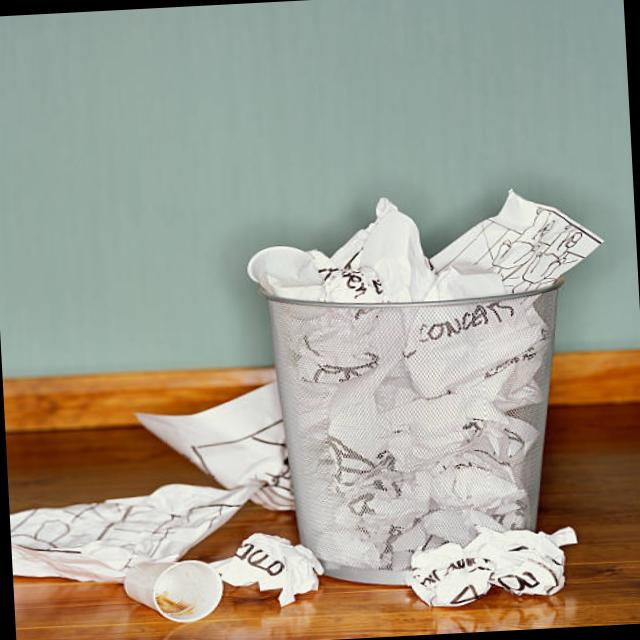electronic: (8, 476, 264, 588), (130, 379, 294, 519), (242, 194, 438, 310), (424, 183, 606, 299), (402, 521, 580, 610), (208, 528, 326, 610)
